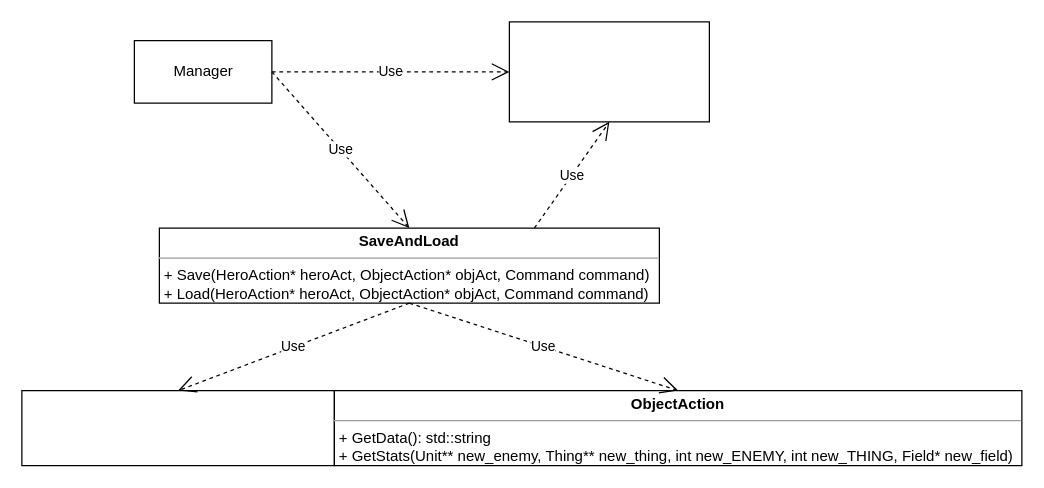
The diagram is 1044 pixels wide and 488 high, and some of its shapes have lost their labels. Here are the shapes that lost their labels. From the top down, the centre of each, then its label:
the point at 608,71: LoadError - m_error: std::string + getError(): const char*
the point at 177,427: HeroAction + GetData(): std::string + GetStats(Hero* new_hero, Field* new_field)
